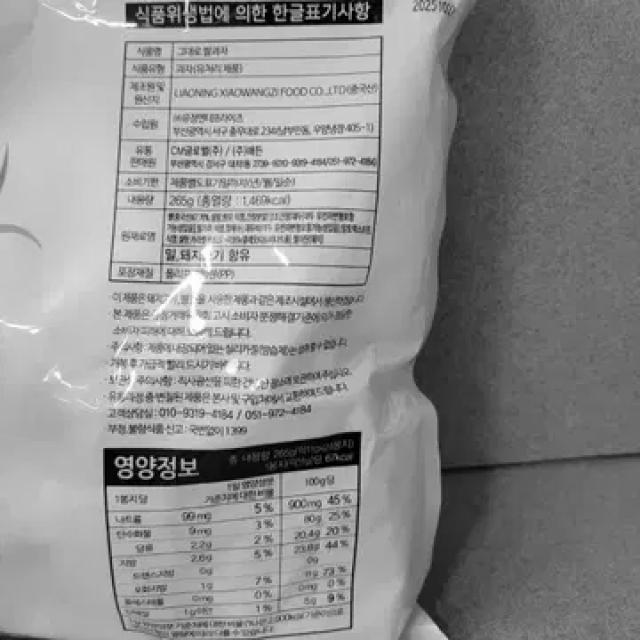Nutrition Label: (93, 427, 367, 640)
